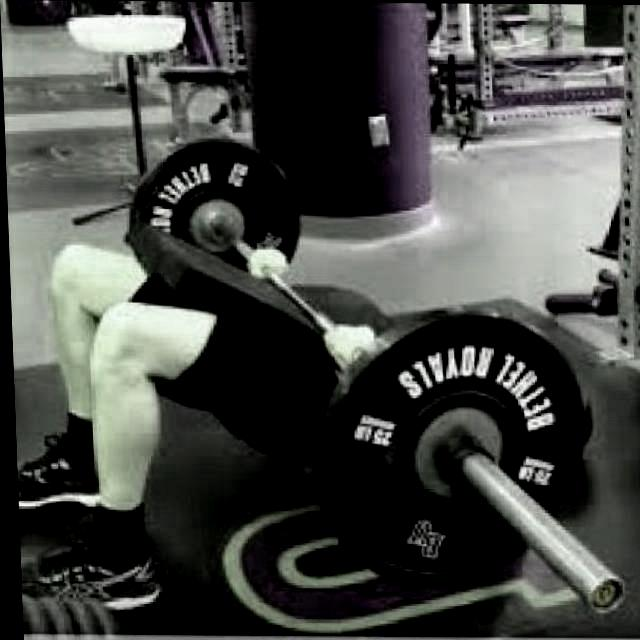barbell: (310, 307, 625, 617)
